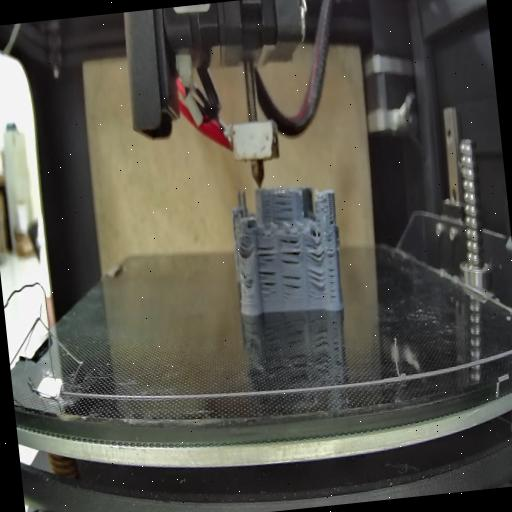cracks: (322, 234, 340, 300), (277, 236, 302, 270), (280, 272, 304, 300), (270, 194, 294, 222), (258, 266, 278, 298), (256, 242, 278, 264), (305, 239, 325, 263), (307, 266, 324, 290), (236, 240, 248, 260), (240, 268, 249, 282), (326, 214, 336, 226)
